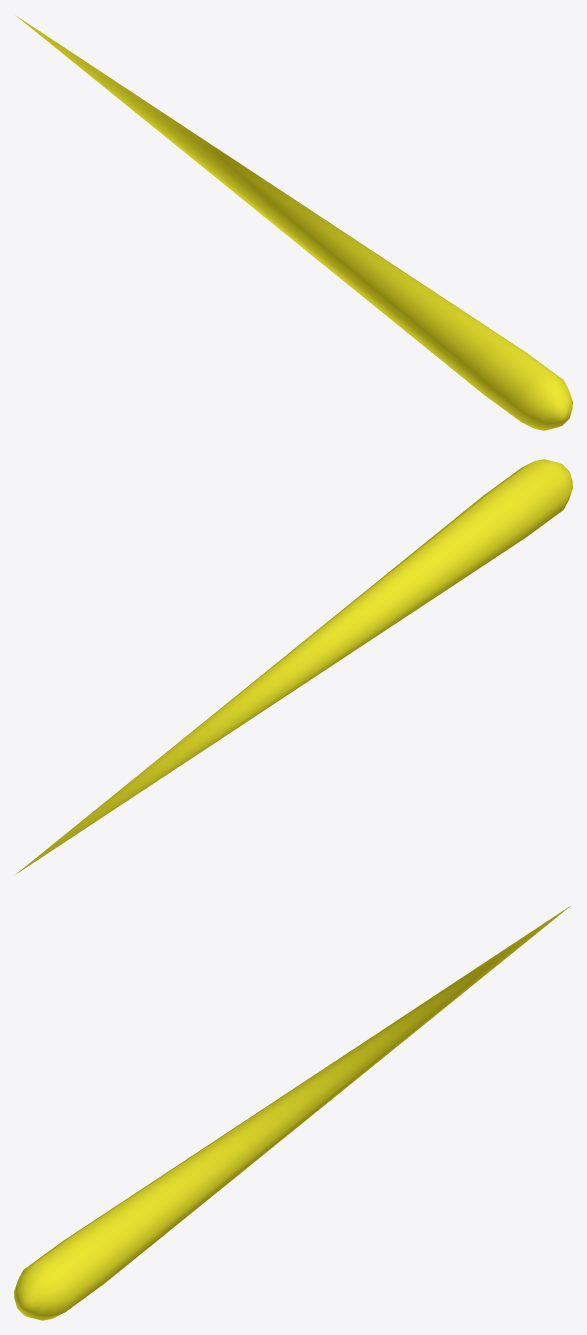
Rendered from bullet.FBX.
The picture shows the model from 3 angles, top to bottom: view 1: azimuth 30°, elevation 25°; view 2: azimuth 150°, elevation 25°; view 3: azimuth 330°, elevation 25°; orthographic projection.
Visible parts, largest first — view 1: bullet; view 2: bullet; view 3: bullet.
Part boxes in pixels (x1,y1,x2,y2): bullet: (16, 16, 572, 430); bullet: (16, 459, 572, 873); bullet: (14, 906, 570, 1320).
Bounding box in the file's own units: 0.032 × 0.0304 × 0.5855.
